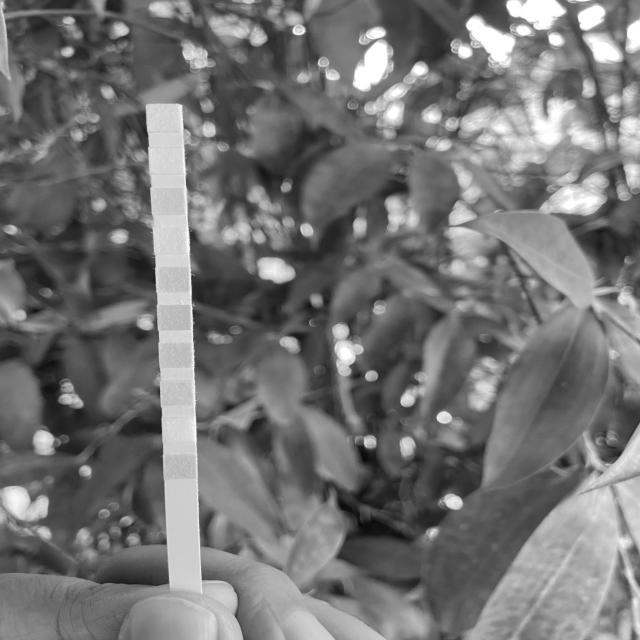Bilirubin: (163, 419, 195, 442)
Blood: (160, 306, 190, 329)
Glucose: (164, 455, 196, 478)
Ketone: (162, 382, 194, 406)
Leukocytes: (149, 106, 180, 131)
Nitrite: (152, 148, 184, 174)
Protein: (156, 228, 187, 253)
SpGravity: (160, 344, 192, 367)
Urobilinogen: (154, 189, 184, 213)
background: (0, 0, 640, 640)
pH: (157, 268, 188, 292)
strip: (144, 104, 202, 585)
